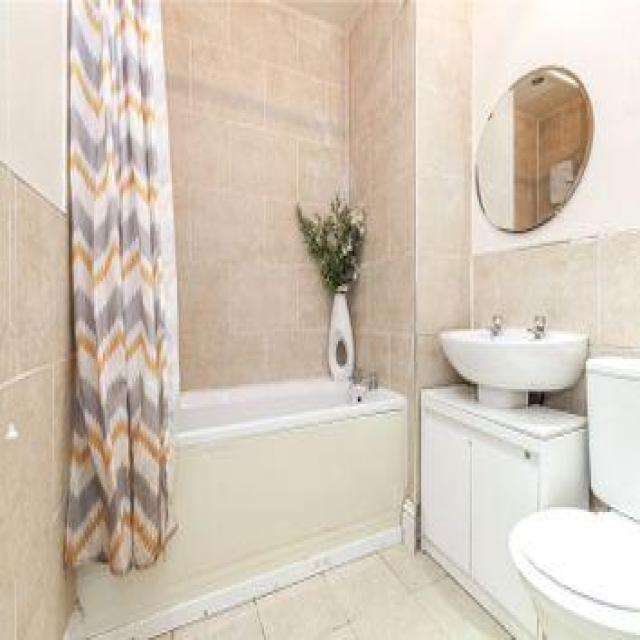Wall: (164, 0, 640, 499), (0, 0, 74, 638), (161, 545, 511, 639), (588, 69, 640, 173), (280, 0, 367, 29)
